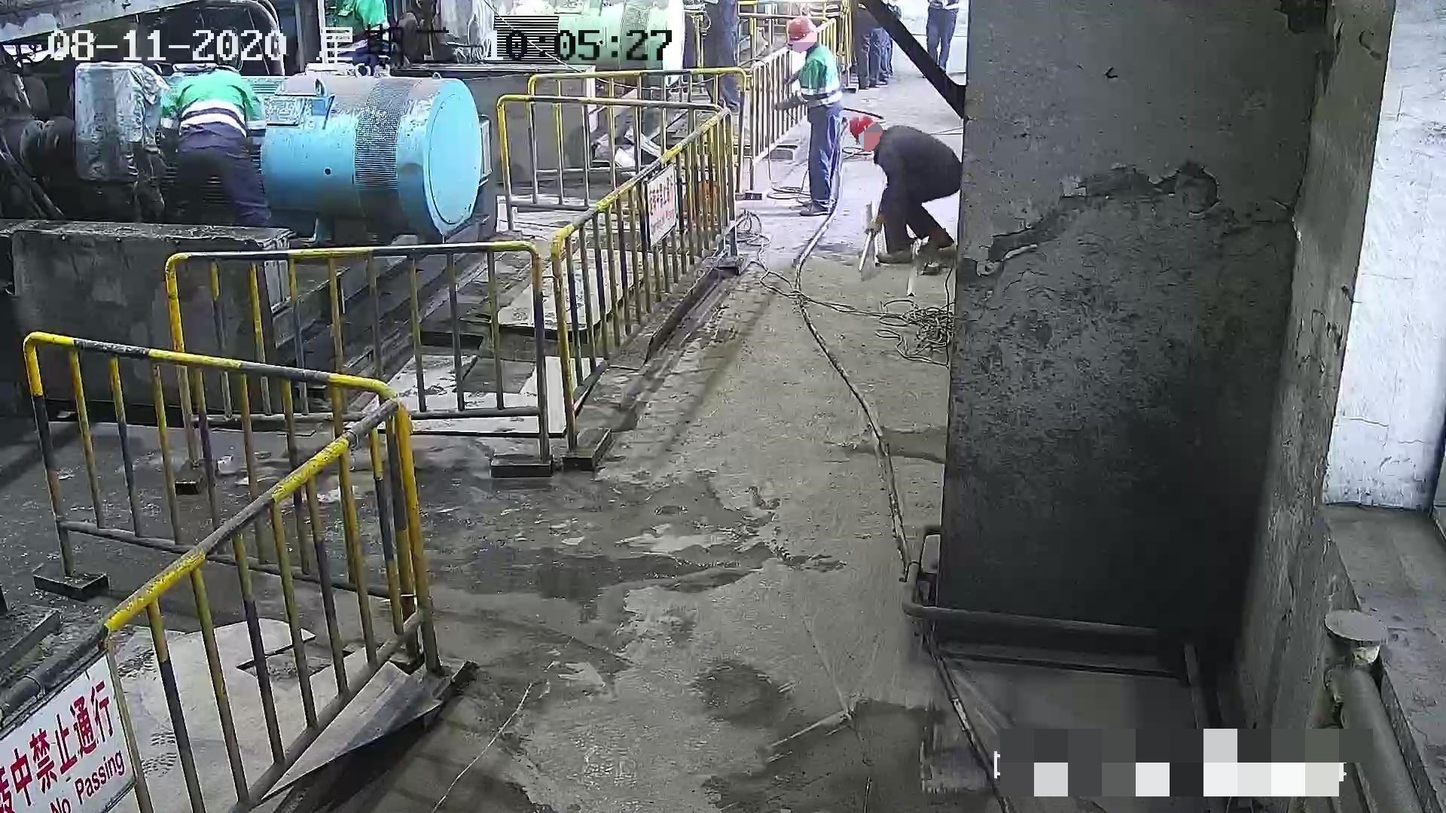hat: (786, 15, 817, 53), (849, 112, 877, 151)
person: (159, 61, 276, 226), (849, 111, 960, 265), (772, 13, 843, 216)
